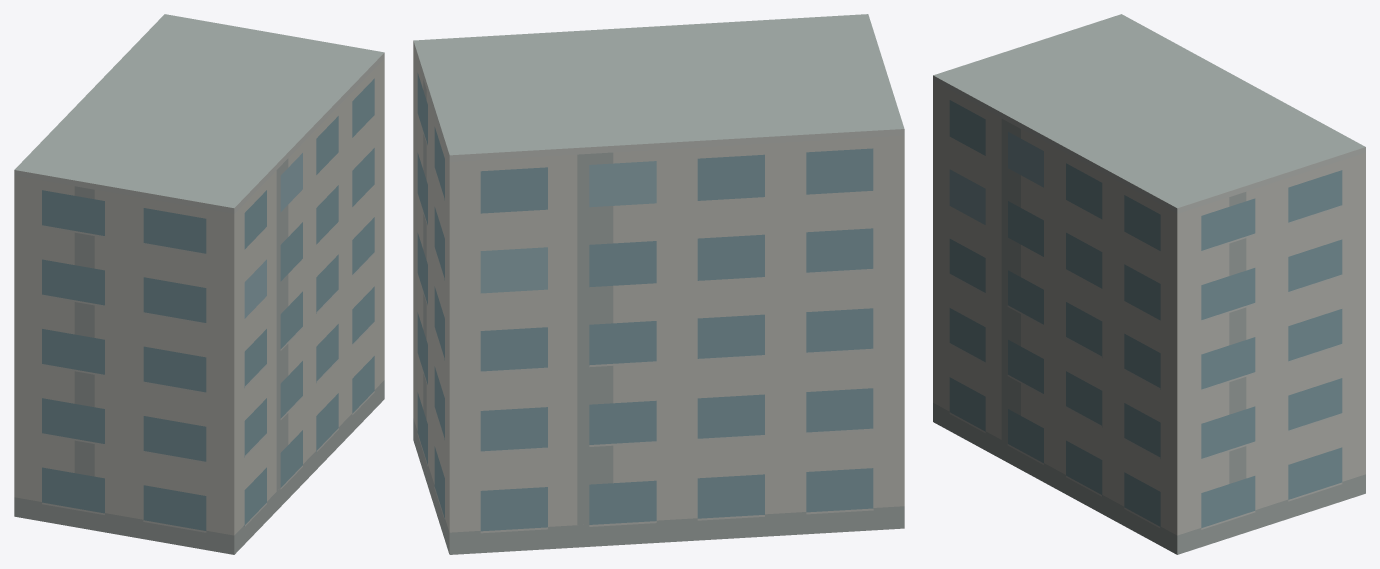
File: survey-upis-32677267.glb
3 renders of one model, left to right at view 1: azimuth 30°, elevation 25°; view 2: azimuth 150°, elevation 25°; view 3: azimuth 270°, elevation 25°, orthographic. The views are drawn at different scales.
Parts seen in each view (by area): view 1: survey-upis-32677267.tmp; view 2: survey-upis-32677267.tmp; view 3: survey-upis-32677267.tmp.
Boxes of the visible parts, bbox=[...] form: survey-upis-32677267.tmp: bbox=[14, 14, 384, 554]; survey-upis-32677267.tmp: bbox=[413, 14, 904, 554]; survey-upis-32677267.tmp: bbox=[933, 14, 1365, 554].
Bounding box in the file's own units: 17.56 × 14.6 × 16.53.
